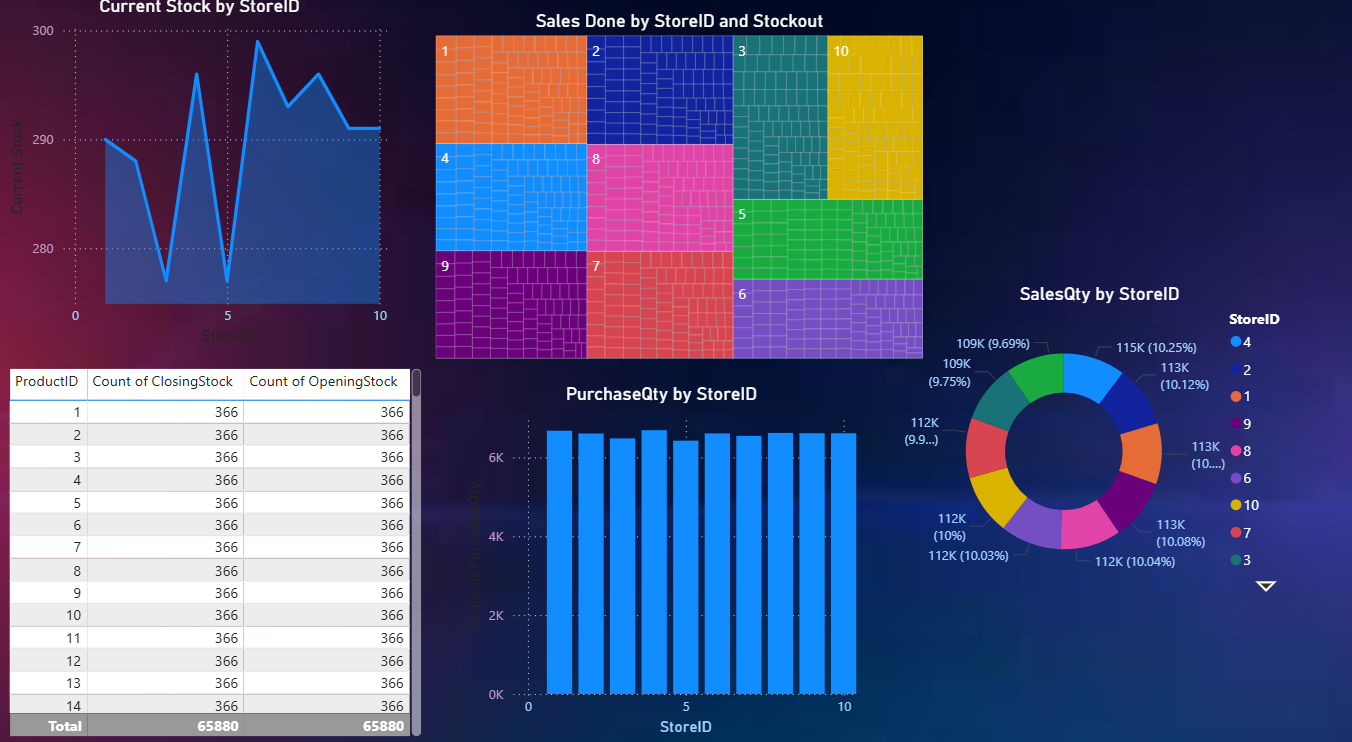

The page's visual inventory and layout, read from the dashboard file:
{"tool":"powerbi","page":{"name":"Inventory and Stock","canvas":[1280,720],"ordinal":3},"visuals":[{"type":"stackedAreaChart","fields":{"Category":["Inventory_Fact.StoreID"],"Y":["Measures (2).Current Stock"]},"box":[10.5,0,365.1,330.2],"z":0},{"type":"tableEx","fields":{"Values":["Inventory_Fact.ProductID","CountNonNull(Inventory_Fact.ClosingStock)","CountNonNull(Inventory_Fact.OpeningStock)"]},"box":[10.5,343,394.2,351.2],"z":1000},{"type":"treemap","title":"Sales  Done by StoreID and Stockout","fields":{"Details":["LocalDateTable_002fb153-dcfc-42d1-bcd9-d0948386999e.Date"],"Group":["Inventory_Fact.StoreID"],"Values":["Sum(Inventory_Fact.SalesQty)"]},"box":[408.1,14,462.8,329.1],"z":2000},{"type":"lineStackedColumnComboChart","title":"PurchaseQty by StoreID","fields":{"Category":["Inventory_Fact.StoreID"],"Y":["CountNonNull(Inventory_Fact.PurchaseQty)"]},"box":[434.9,360.5,375.6,333.7],"z":3000},{"type":"donutChart","title":"SalesQty by StoreID","fields":{"Category":["Inventory_Fact.StoreID"],"Y":["Sum(Inventory_Fact.SalesQty)"]},"box":[838.4,267.4,383.7,295.3],"z":4000}]}

Visuals, with their boxes in screenshot pixels (x1, y1, x2, y2), scaled from the page's 1280x720 canvas onto the 1352x742 screenshot:
stackedAreaChart - Inventory_Fact.StoreID x Measures (2).Current Stock: 11 0 397 340
tableEx - Inventory_Fact.ProductID x CountNonNull(Inventory_Fact.ClosingStock): 11 353 427 715
"Sales  Done by StoreID and Stockout" treemap: 431 14 920 354
"PurchaseQty by StoreID" lineStackedColumnComboChart: 459 372 856 715
"SalesQty by StoreID" donutChart: 886 276 1291 580
